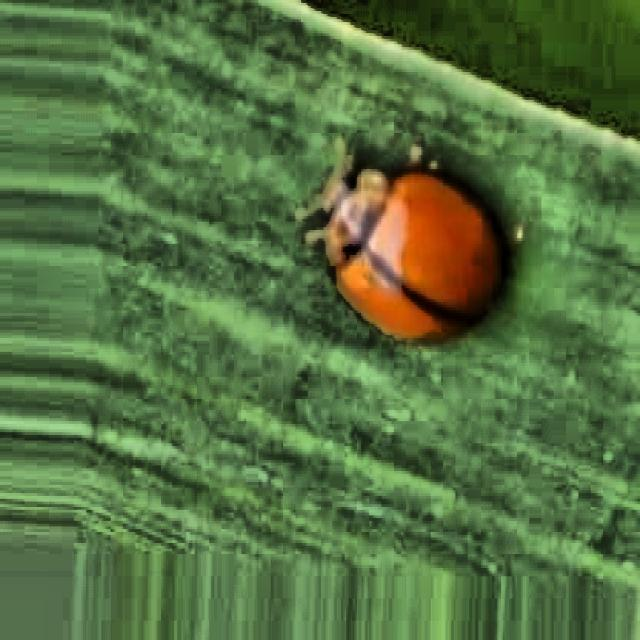Ladybug: (301, 117, 522, 362)
